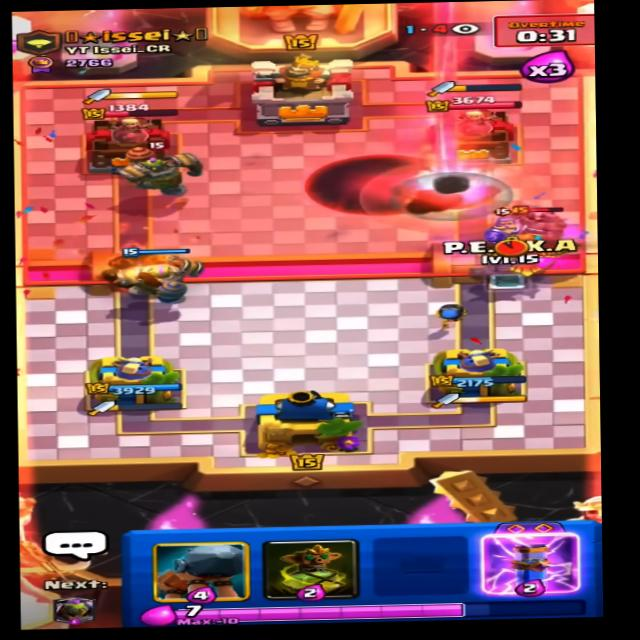evo-knight: (475, 208, 521, 249)
goblin-machine: (109, 137, 218, 198)
pekka: (499, 187, 592, 245)
